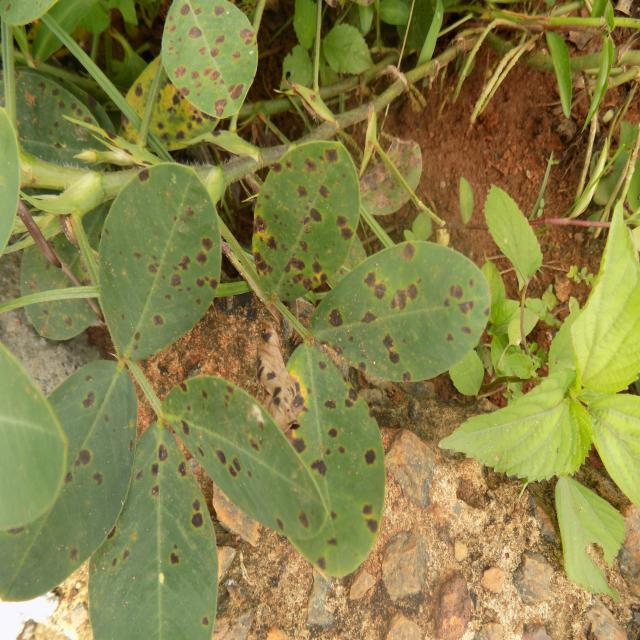Ground nut_tikka leaf spot: (0, 355, 135, 604), (80, 425, 221, 640), (159, 373, 332, 540), (310, 239, 491, 381), (286, 333, 388, 576), (96, 163, 221, 356), (251, 134, 358, 307), (160, 2, 262, 132)
